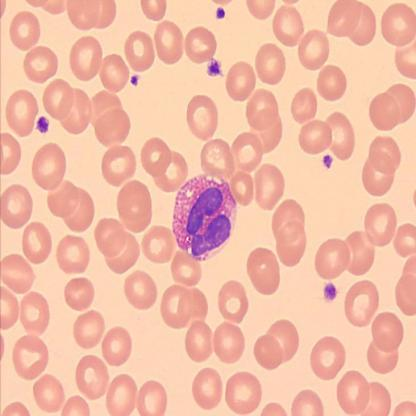Eosinophil: (174, 173, 236, 260)
